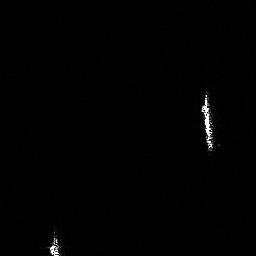ship: (197, 90, 218, 152), (46, 231, 62, 256)
